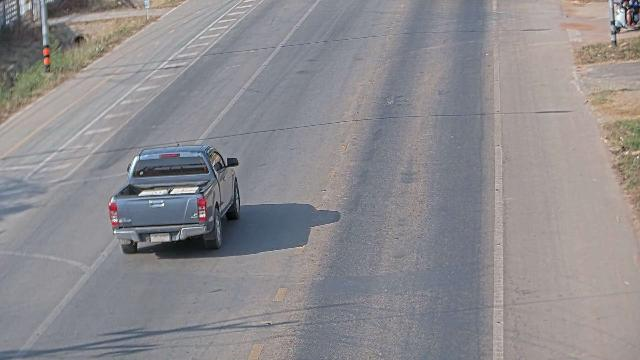pickup-truck: (107, 142, 241, 254)
